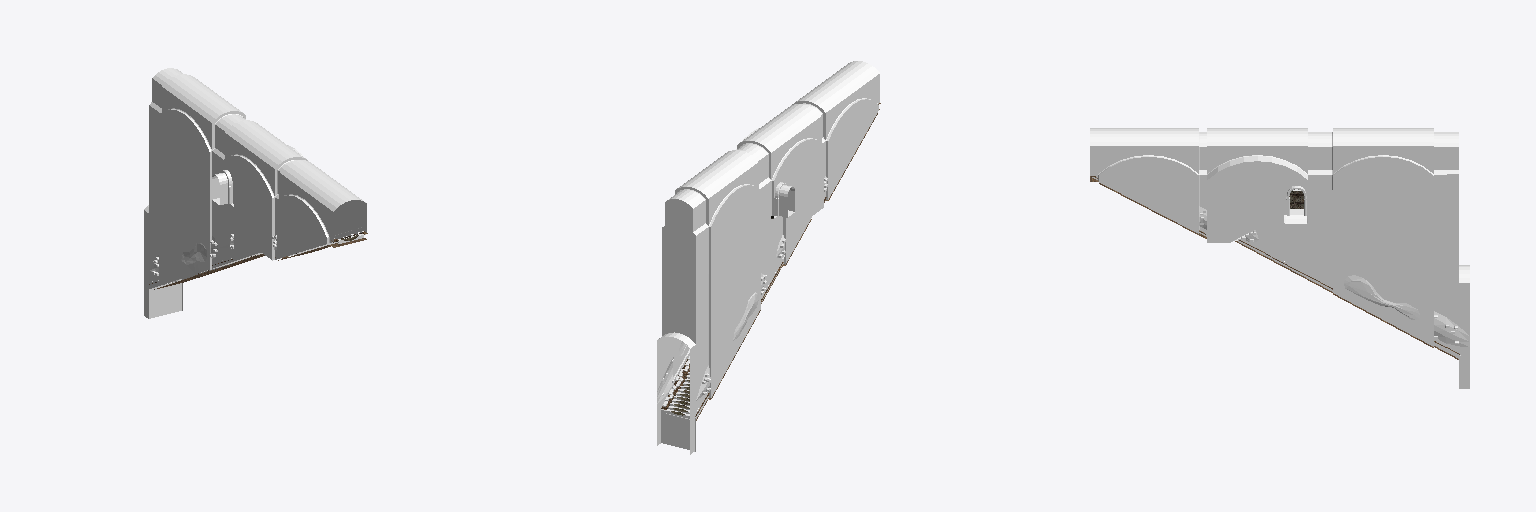
The picture shows the model from 3 angles: view 1: azimuth 30°, elevation 25°; view 2: azimuth 150°, elevation 25°; view 3: azimuth 270°, elevation 25°; orthographic projection.
Visible parts, largest first — view 1: mesh8, mesh0, mesh4; view 2: mesh8, mesh0, mesh4; view 3: mesh8, mesh4, mesh0, mesh9.
Part boxes in pixels (x1,y1,x2,y2): mesh8: (159, 109, 362, 285); mesh0: (144, 74, 366, 318); mesh4: (144, 68, 307, 318); mesh8: (673, 99, 878, 397); mesh0: (659, 61, 879, 451); mesh4: (657, 101, 827, 454); mesh8: (1099, 157, 1433, 346); mesh4: (1199, 132, 1469, 388); mesh0: (1090, 128, 1469, 355); mesh9: (1090, 177, 1458, 359).
Size of the model in its own units: 6.58 by 24.7 by 34.01.
Materials: 17 (6 with a texture image).